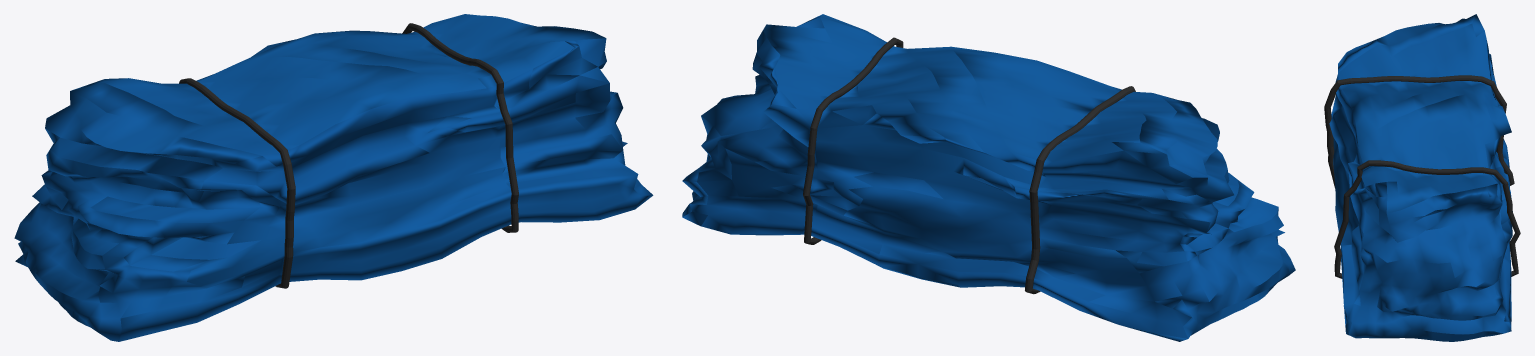
The model's file is SM_Tarpaulin_Blue_D.fbx.
3 views of the same model, side by side, from view 1: azimuth 30°, elevation 25°; view 2: azimuth 150°, elevation 25°; view 3: azimuth 270°, elevation 25° (orthographic). The views are drawn at different scales.
Visible parts, largest first — view 1: SM_Tarpaulin_Blue_D; view 2: SM_Tarpaulin_Blue_D; view 3: SM_Tarpaulin_Blue_D.
Boxes of the visible parts, left/top/right/bottom form: SM_Tarpaulin_Blue_D: left=14, top=14, right=653, bottom=341; SM_Tarpaulin_Blue_D: left=682, top=14, right=1295, bottom=341; SM_Tarpaulin_Blue_D: left=1324, top=14, right=1520, bottom=341.
Bounding box in the file's own units: 169 × 51.96 × 64.74.
